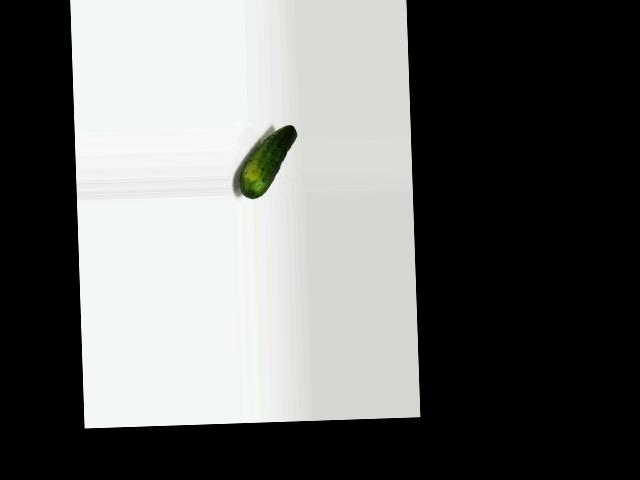cucumber: (238, 124, 298, 198)
